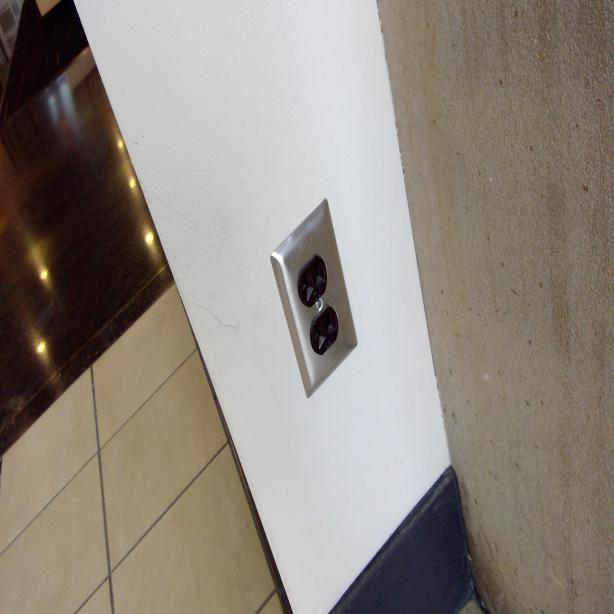typeb: (298, 256, 326, 303), (314, 310, 336, 360)
